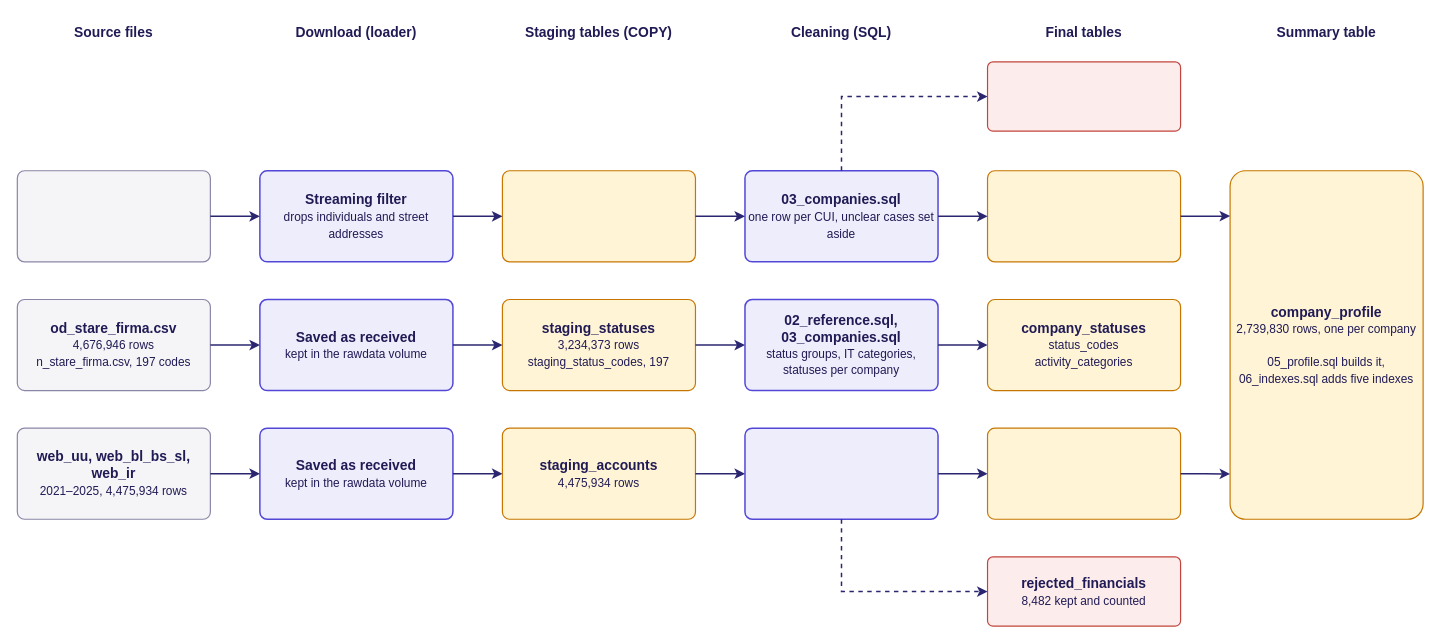
Image size: 1441x644. Some labels were removed from this diagram. Here are the shapes that lost their labels. From the top down, the centre of each, then its label:
(1083,96): ambiguous_cui 2,354 set aside, counted
(113,216): od_firme.csv 4,233,074 rows
(598,216): staging_firms 2,871,867 rows
(1083,216): companies 2,739,830 rows
(841,473): 04_financials.sql amounts as numbers, suspect values flagged
(1083,473): financials 4,467,452 rows
